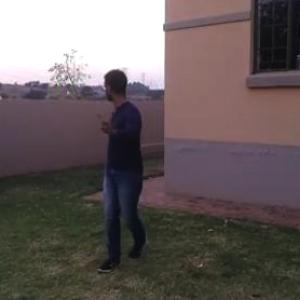takeoff-hand: (95, 108, 118, 136)
